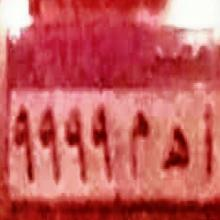9: (37, 107, 62, 190), (64, 108, 87, 190), (91, 106, 115, 184), (14, 100, 34, 184)
alif: (198, 100, 216, 186)
haa: (160, 115, 192, 184)
meem: (128, 108, 153, 182)
